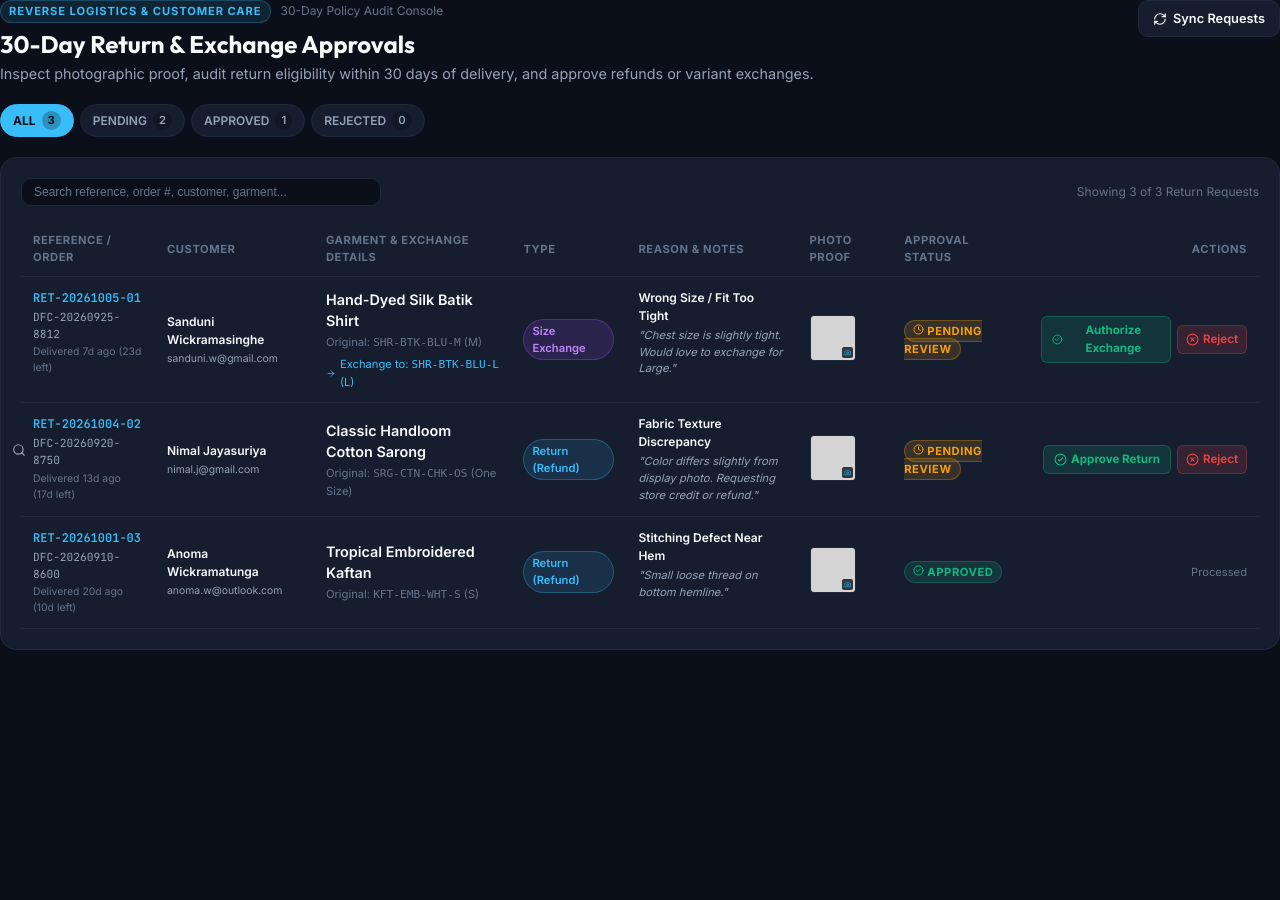
it: STORM-FE-019: Admin Order Fulfillment Console & 30-Day Return Approvals › AC3 & AC4: Returns & Exchanges Review Console › opens reject modal and confirms rejection with justification reason
Click the button with test id "reject-return-btn-302": (1212, 460) 1177,445 -> 1247,474
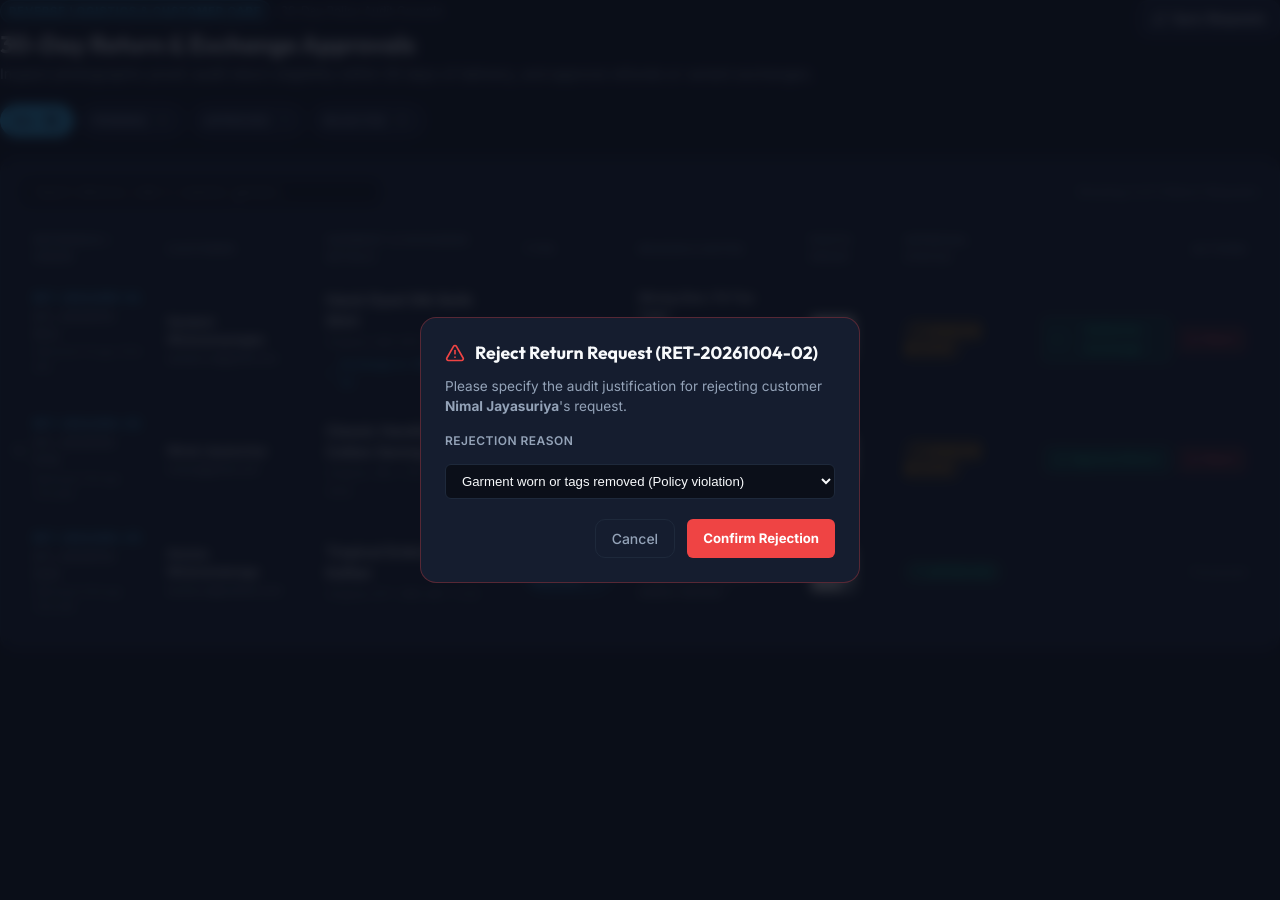
Result: the element with test id "reject-modal" is shown
Click the button with test id "confirm-reject-btn": (761, 539) 687,519 -> 835,558
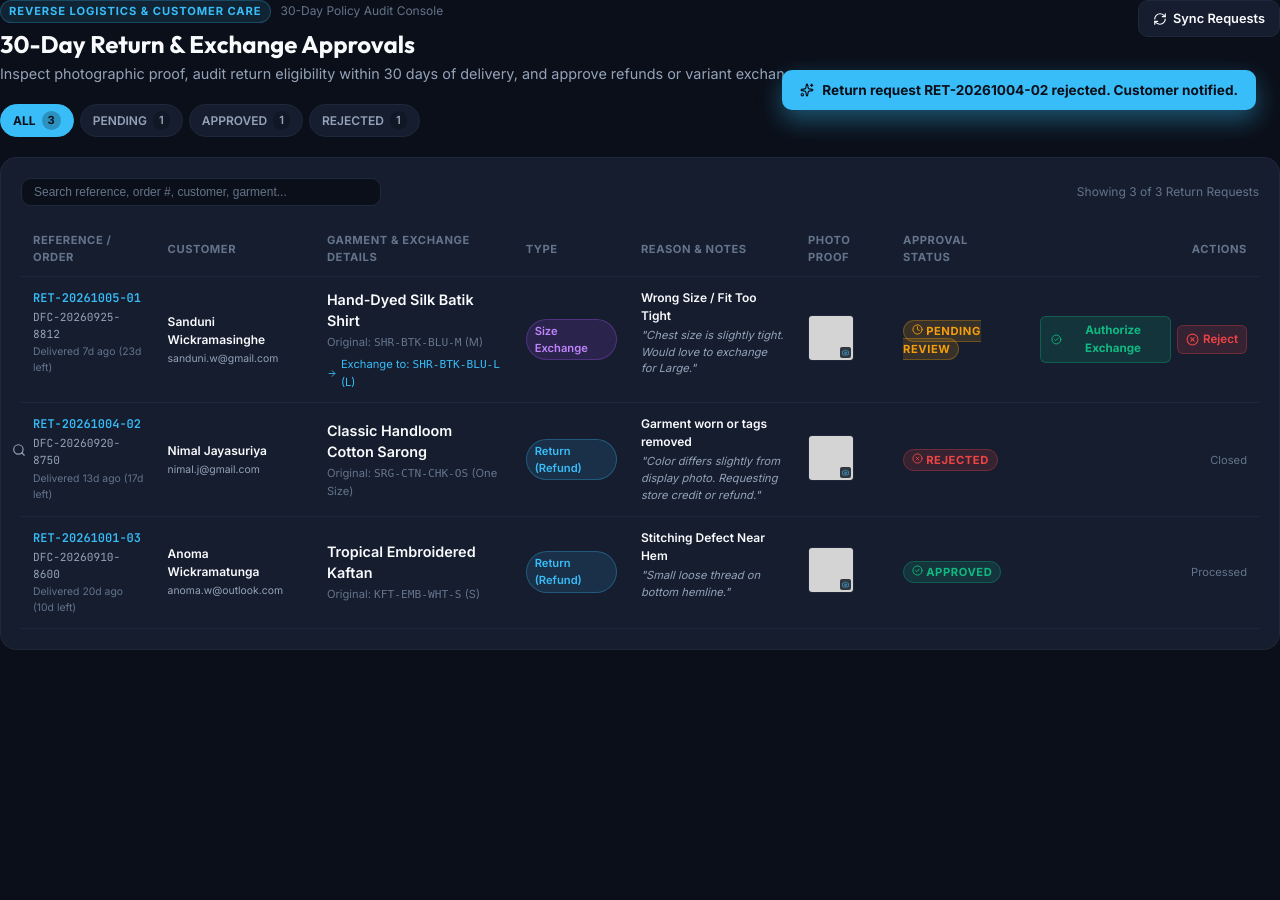
Result: the element with test id "reject-modal" is gone
Result: the cell with test id "return-status-302" reads "REJECTED" at 923,453 -> 989,467
